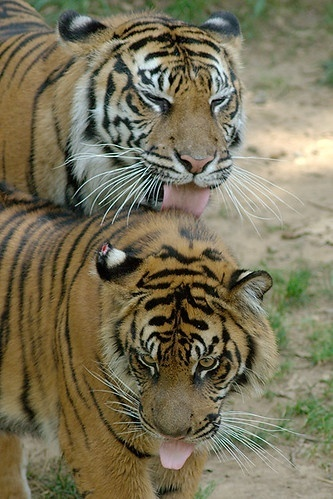tigre: (1, 190, 282, 497), (1, 1, 258, 213)
